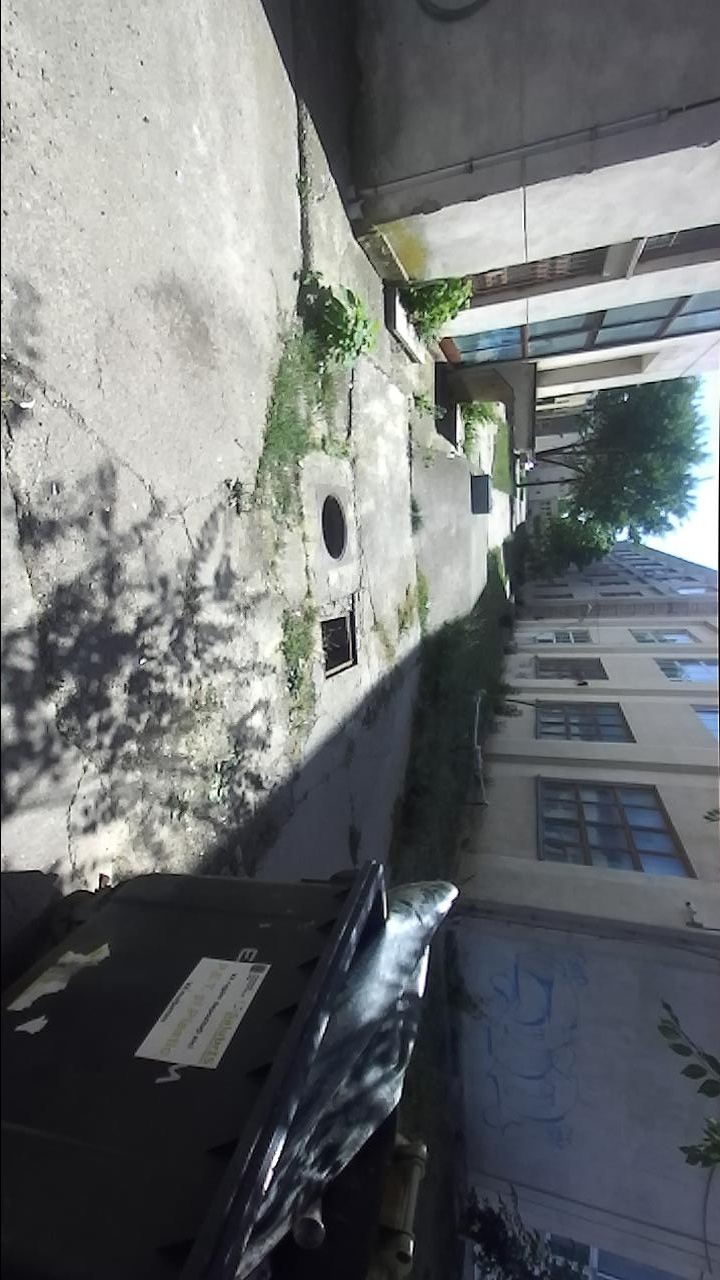drain: (322, 600, 354, 684), (320, 489, 349, 575)
